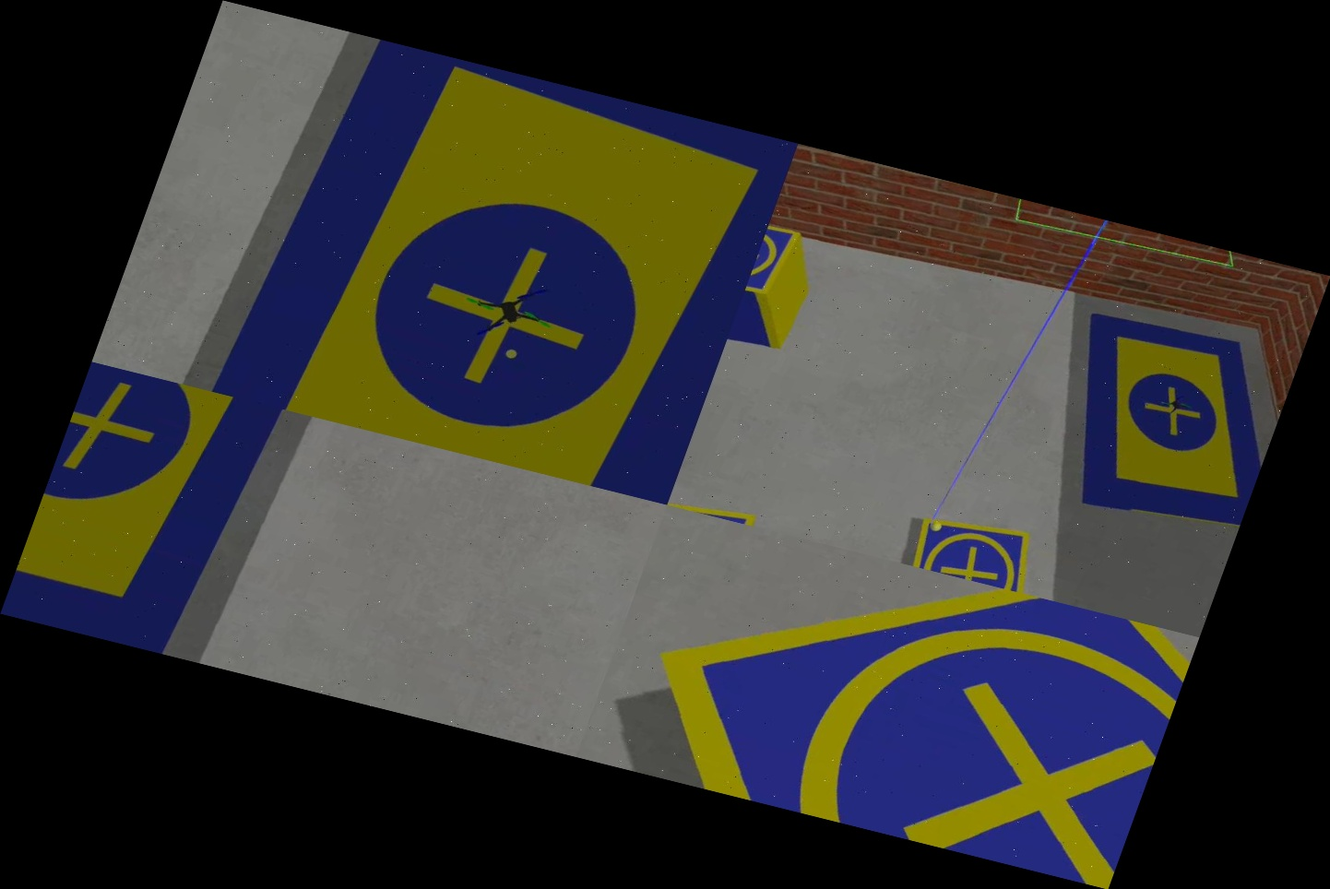large_base: (179, 22, 798, 505), (0, 362, 305, 666), (993, 283, 1306, 561)
small_base: (587, 508, 1198, 889), (891, 493, 1071, 599), (737, 214, 805, 319), (667, 480, 765, 527)
